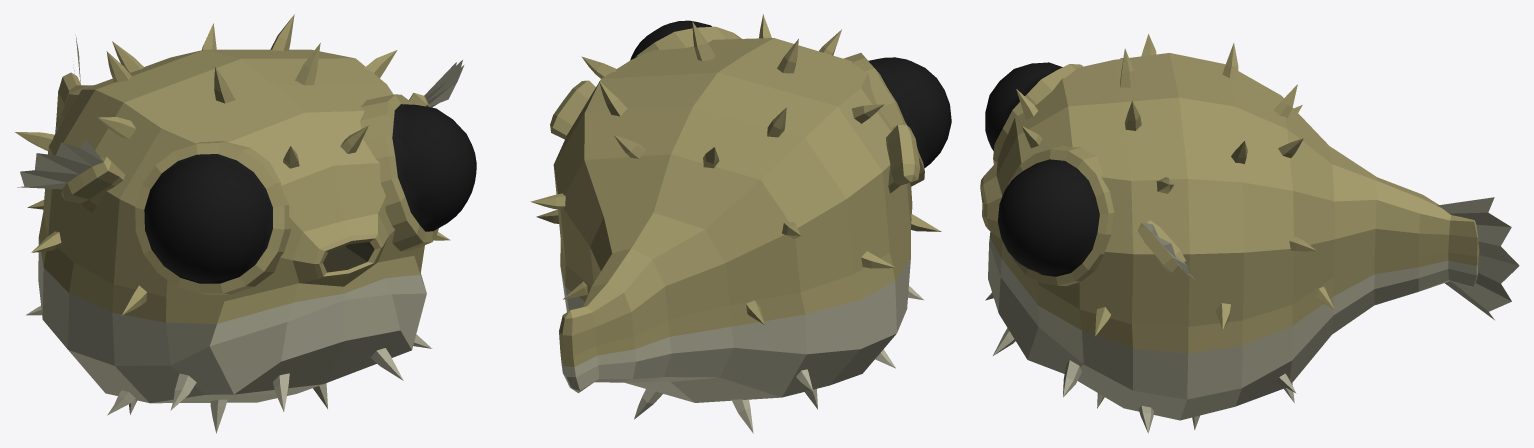
The model's file is Puffer.glb.
3 views of the same model, side by side, from view 1: azimuth 30°, elevation 25°; view 2: azimuth 150°, elevation 25°; view 3: azimuth 270°, elevation 25° (orthographic). The views are drawn at different scales.
Visible parts, largest first — view 1: Pufferfish.002_Cube.001, Pufferfish_Cube.002; view 2: Pufferfish.002_Cube.001, Pufferfish_Cube.002; view 3: Pufferfish.002_Cube.001, Pufferfish_Cube.002.
Boxes of the visible parts, <box> form: Pufferfish.002_Cube.001: <box>15,14,464,433</box>; Pufferfish_Cube.002: <box>144,104,476,283</box>; Pufferfish.002_Cube.001: <box>530,14,941,433</box>; Pufferfish_Cube.002: <box>630,20,951,168</box>; Pufferfish.002_Cube.001: <box>980,34,1519,433</box>; Pufferfish_Cube.002: <box>985,62,1099,276</box>.
Bounding box in the file's own units: 3.44 × 2.69 × 3.94.
